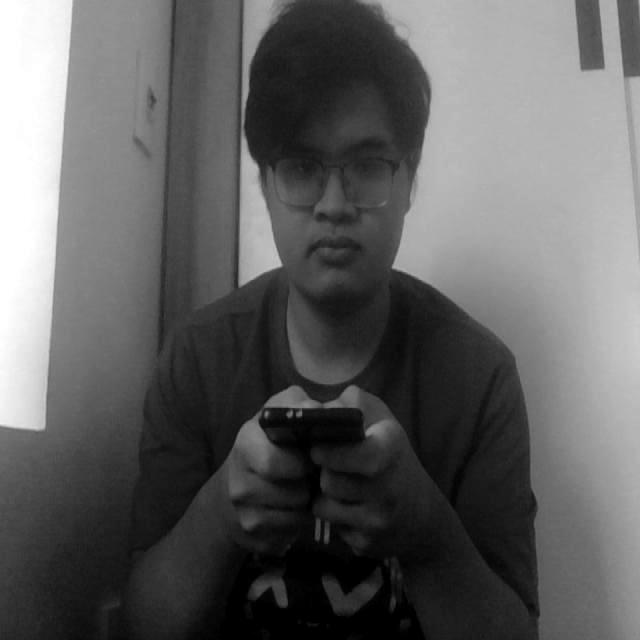phone: (255, 388, 382, 463)
